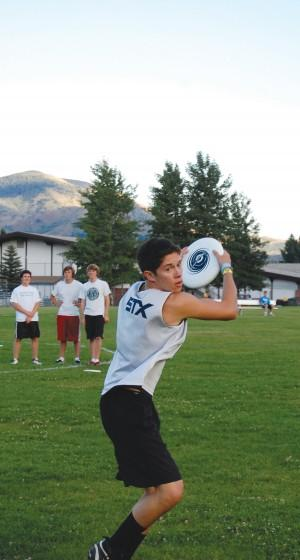person: (89, 235, 239, 560)
